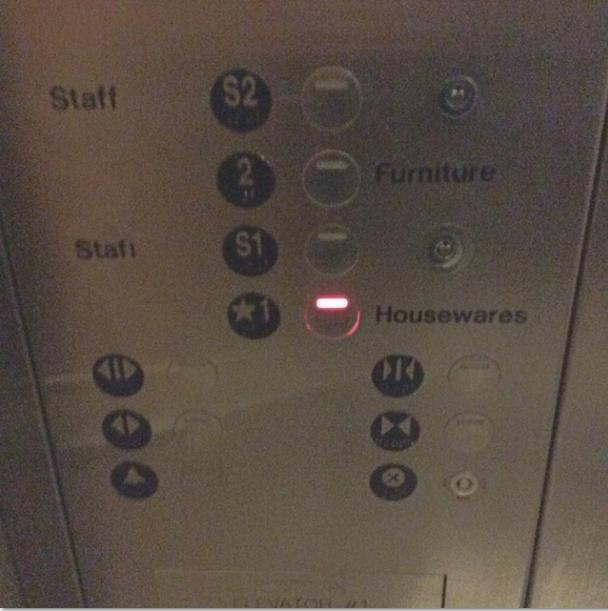2: (215, 149, 276, 207)
S1: (222, 224, 277, 278)
S2: (206, 66, 273, 134)
alarm: (108, 458, 159, 500)
close: (371, 351, 426, 400), (369, 409, 422, 452)
empty: (301, 65, 363, 134), (301, 148, 361, 209), (303, 223, 360, 278), (302, 289, 360, 340), (447, 354, 501, 401), (165, 355, 218, 401), (170, 455, 223, 501), (170, 409, 223, 454), (444, 411, 495, 454)
keyhole: (418, 224, 472, 274), (435, 74, 479, 118), (443, 468, 484, 502)
open: (89, 350, 145, 397), (100, 407, 153, 451)
s1: (226, 290, 281, 340)
stop: (368, 460, 420, 502)
